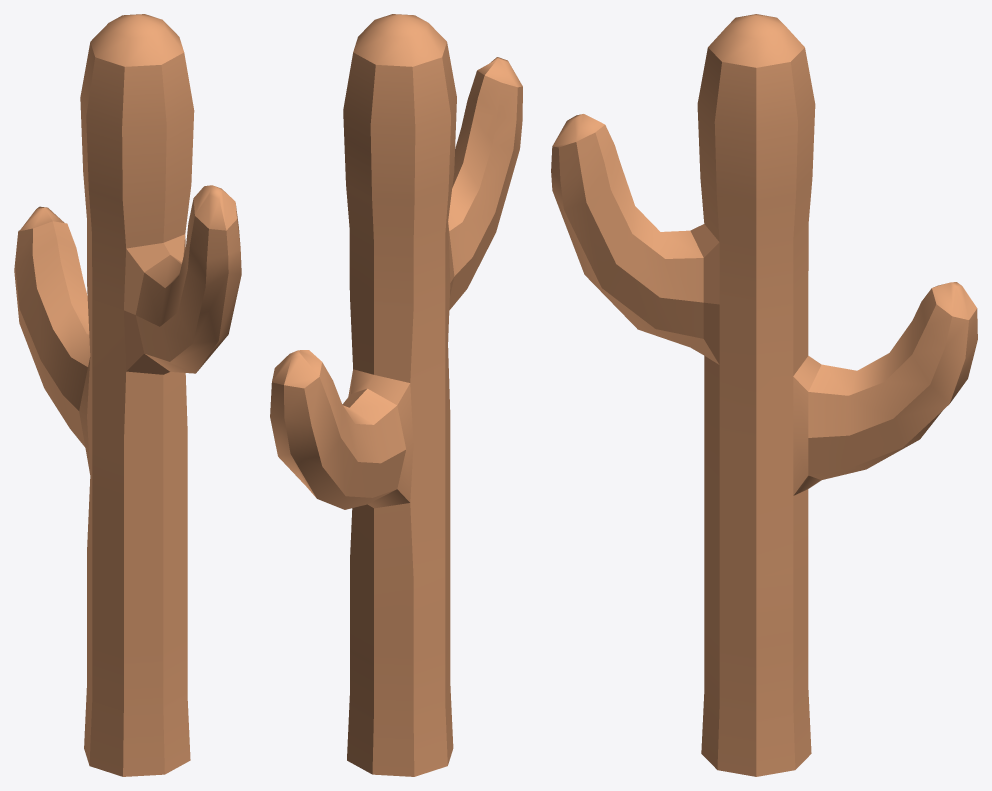
The model's file is Cact1.fbx.
3 views of the same model, side by side, from view 1: azimuth 30°, elevation 25°; view 2: azimuth 150°, elevation 25°; view 3: azimuth 270°, elevation 25° (orthographic).
Parts seen in each view (by area): view 1: pCylinder1; view 2: pCylinder1; view 3: pCylinder1.
Part boxes in pixels (left/top/right/bottom): pCylinder1: left=14, top=14, right=241, bottom=776; pCylinder1: left=270, top=14, right=522, bottom=776; pCylinder1: left=551, top=14, right=977, bottom=776.
Bounding box in the file's own units: 0.4027 × 2.79 × 1.46.
